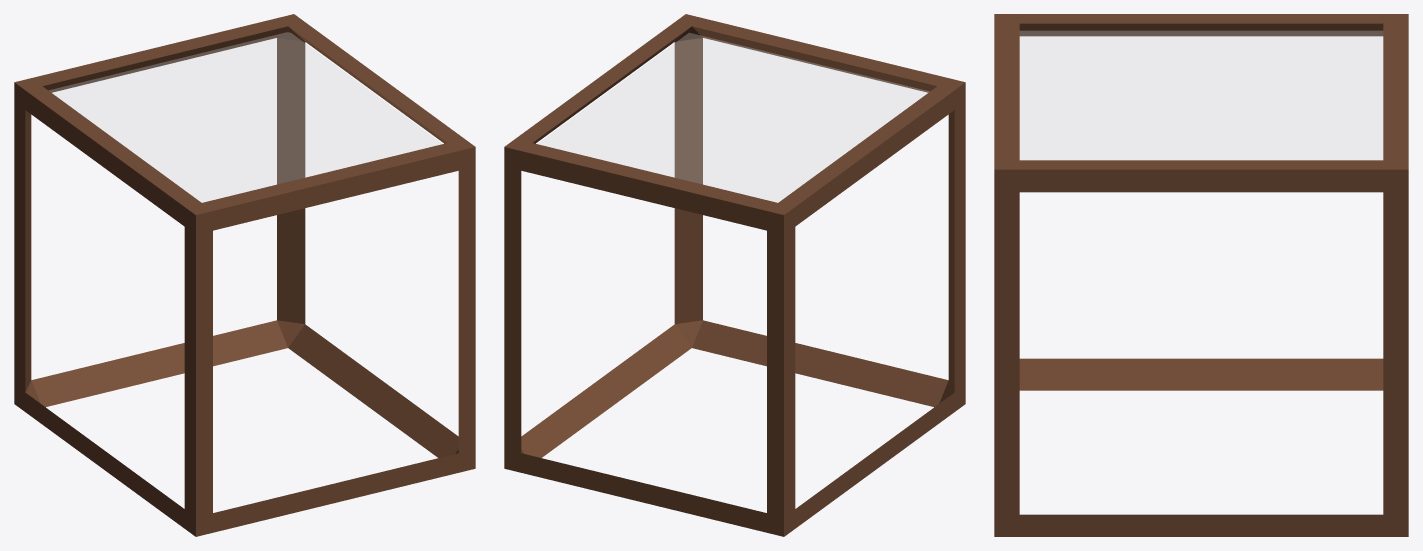
File: Side_Table.fbx
The picture shows the model from 3 angles, left to right: view 1: azimuth 30°, elevation 25°; view 2: azimuth 150°, elevation 25°; view 3: azimuth 270°, elevation 25°; orthographic projection. The views are drawn at different scales.
Visible parts, largest first — view 1: Side_Table; view 2: Side_Table; view 3: Side_Table.
Boxes of the visible parts, box(x1,y1,x2,y2) form: Side_Table: box(14, 14, 475, 536); Side_Table: box(504, 14, 965, 536); Side_Table: box(994, 14, 1408, 536).
Bounding box in the file's own units: 45.52 × 50.01 × 51.16.
